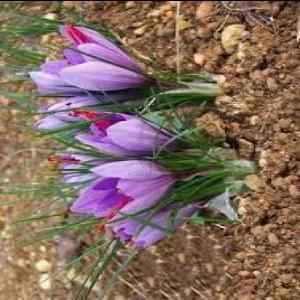Saffron: (27, 25, 161, 99), (91, 157, 186, 222), (72, 113, 188, 156), (130, 193, 205, 246)
